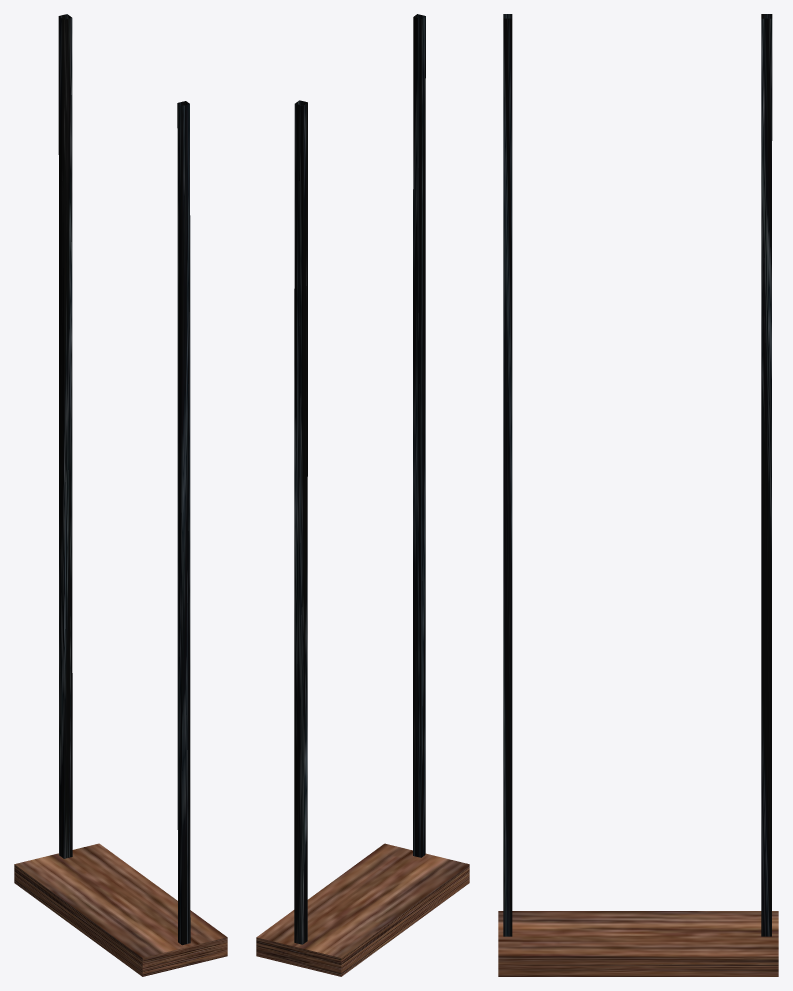
The model's file is asiento_columpio.obj.
3 views of the same model, side by side, from view 1: azimuth 30°, elevation 25°; view 2: azimuth 150°, elevation 25°; view 3: azimuth 270°, elevation 25° (orthographic). The views are drawn at different scales.
Visible parts, largest first — view 1: Cube.001_Cube.006; view 2: Cube.001_Cube.006; view 3: Cube.001_Cube.006.
Part boxes in pixels (x1=…): Cube.001_Cube.006: x1=14, y1=14, x2=227, y2=976; Cube.001_Cube.006: x1=256, y1=14, x2=469, y2=976; Cube.001_Cube.006: x1=498, y1=14, x2=778, y2=976.
Bounding box in the file's own units: 10.16 × 98.12 × 26.55.
Materials: 1 (1 with a texture image).
